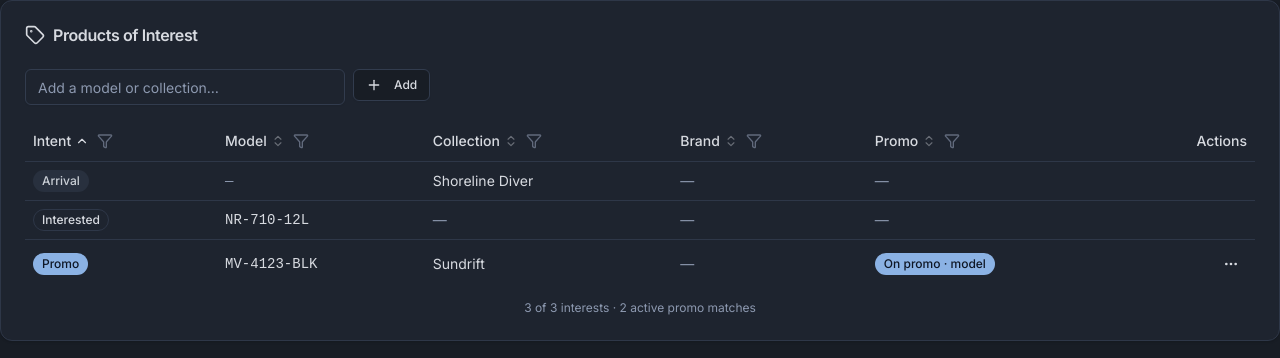
InterestsTab (unified table) › sorts when a column header is clicked
The image size is (1280, 358).
# Toggling sort should not throw and keeps rows rendered
Click the button "Model".
click(255, 141)  # box left=225, top=131, right=285, bottom=151
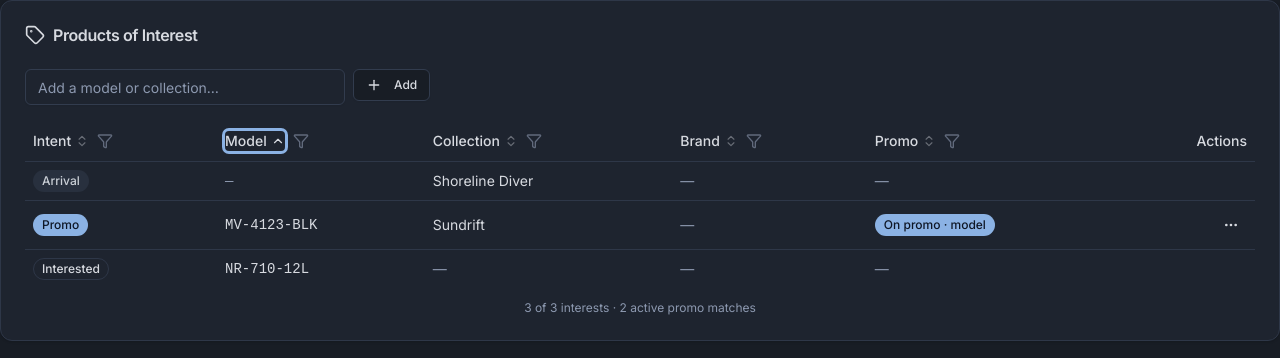
expect the text "NR-710-12L" is shown: met, box left=217, top=249, right=425, bottom=288
